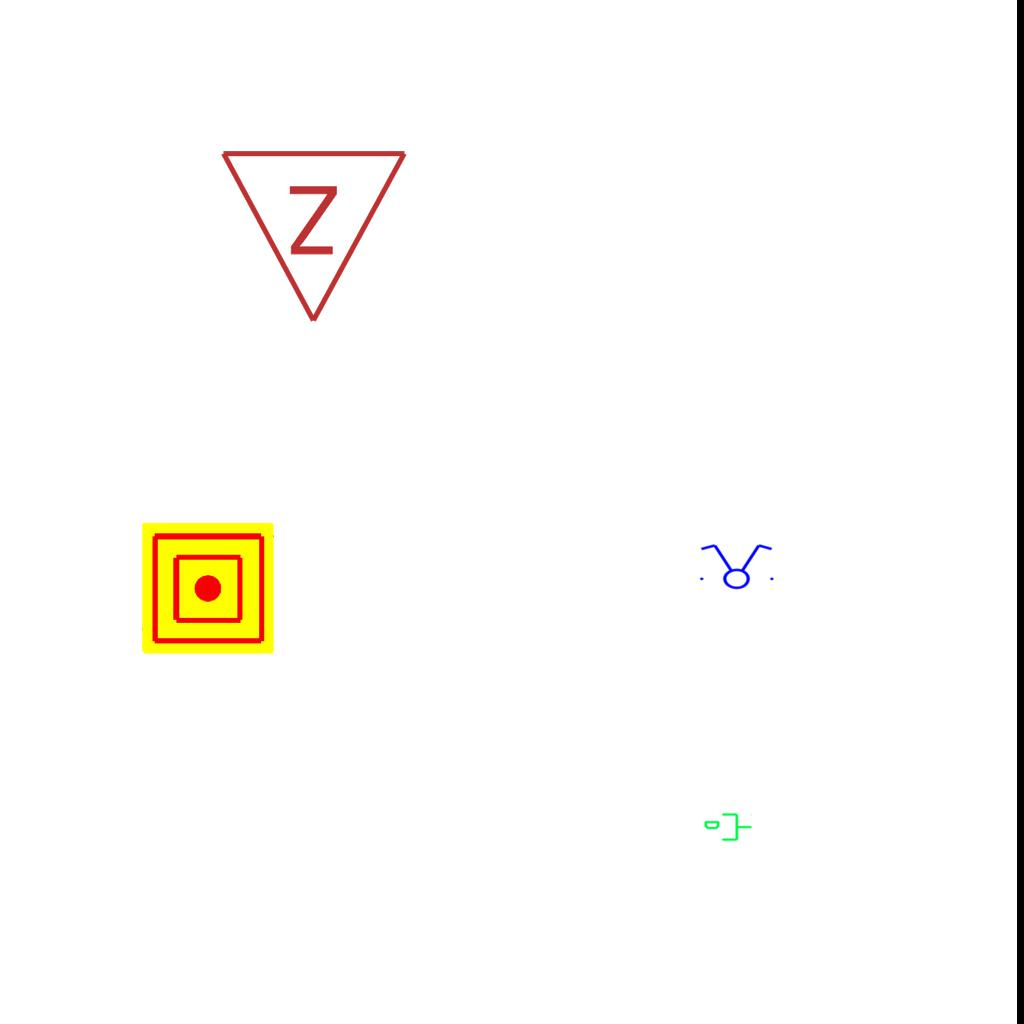Datenanschluss_einfach: (703, 811, 753, 845)
NAM-Nichtautomatischer_Melder: (142, 522, 274, 654)
Serienschalter: (694, 542, 778, 590)
Zimmersignalleuchte: (218, 136, 414, 336)
